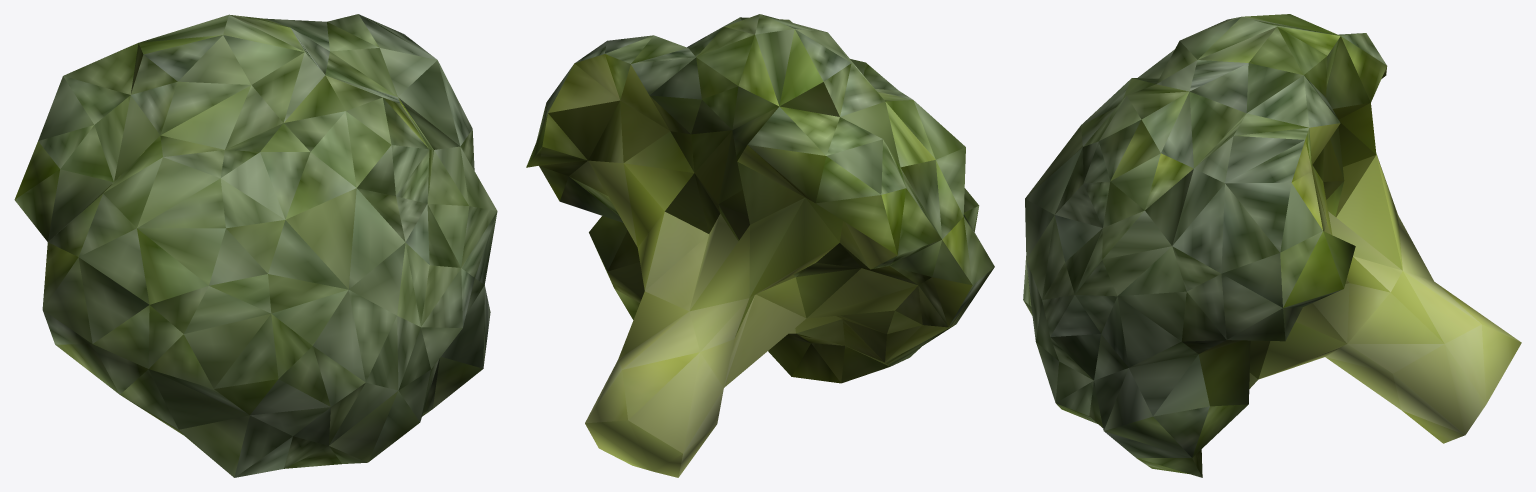
Rendered from broccoli_collision.obj.
3 renders of one model, left to right at view 1: azimuth 30°, elevation 25°; view 2: azimuth 150°, elevation 25°; view 3: azimuth 270°, elevation 25°, orthographic. The views are drawn at different scales.
Bounding box in the file's own units: 6.72 × 5.92 × 6.76.
